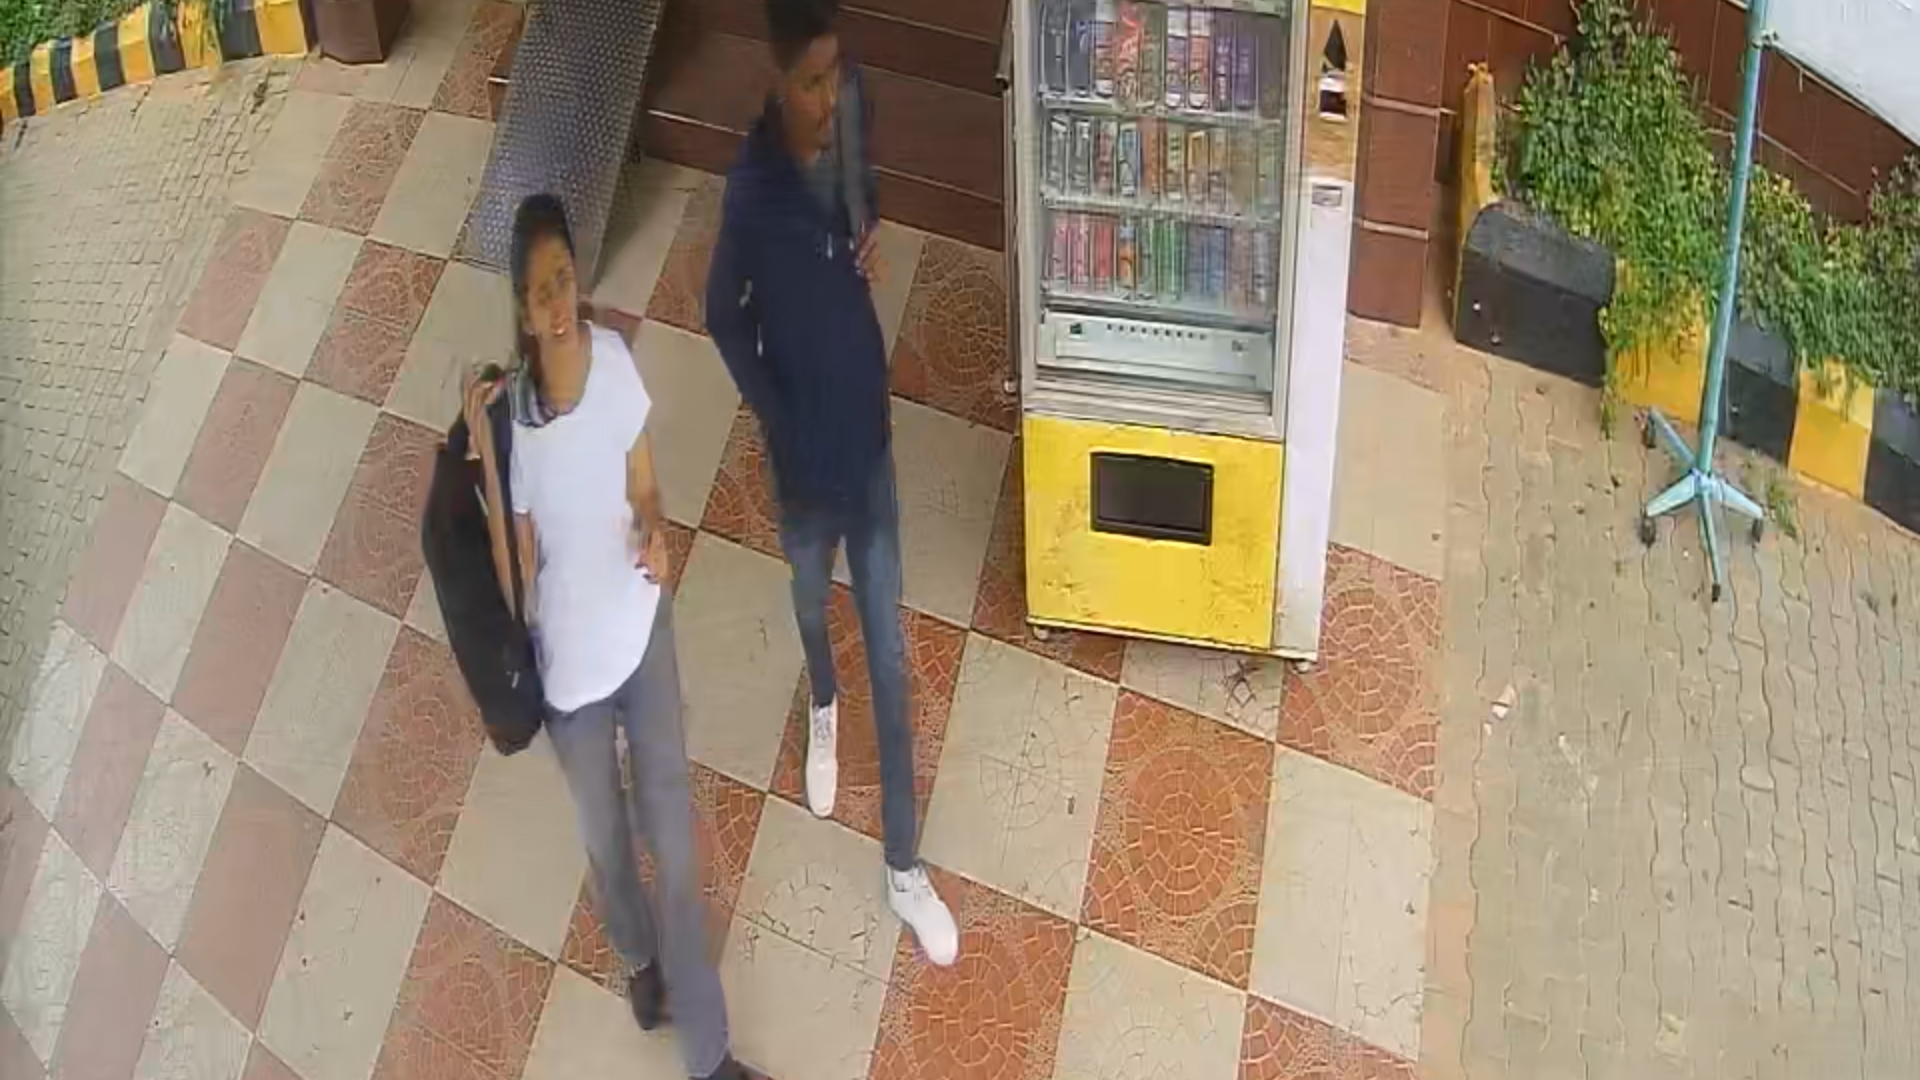intruder: (715, 1, 982, 990), (465, 196, 753, 1046)
